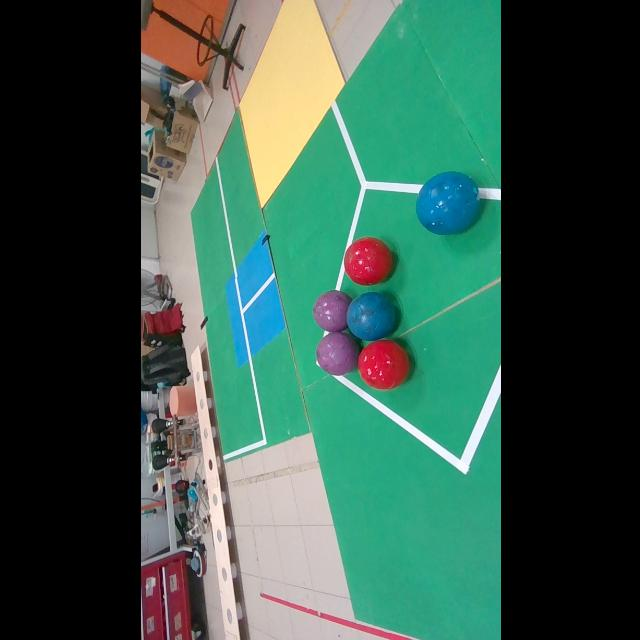B: (415, 171, 478, 235), (345, 293, 394, 341)
P: (315, 332, 358, 376), (311, 290, 351, 332)
R: (357, 340, 409, 390), (343, 236, 392, 286)
